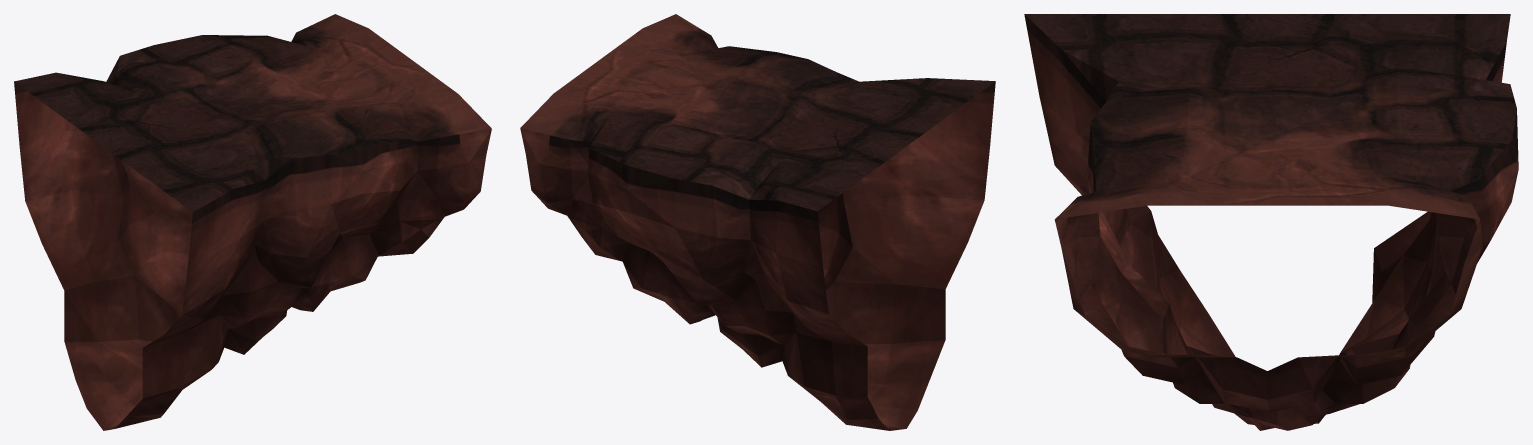
Rendered from lava_bridge_transition_01.fbx.
3 views of the same model, side by side, from view 1: azimuth 30°, elevation 25°; view 2: azimuth 150°, elevation 25°; view 3: azimuth 270°, elevation 25° (orthographic). The views are drawn at different scales.
Visible parts, largest first — view 1: obj0.133; view 2: obj0.133; view 3: obj0.133.
Part boxes in pixels (box(x1,y1,x2,y2)): obj0.133: box(14, 14, 491, 430); obj0.133: box(520, 14, 995, 430); obj0.133: box(1024, 14, 1518, 430).
Size of the model in its own units: 4 by 3.65 by 4.07.
